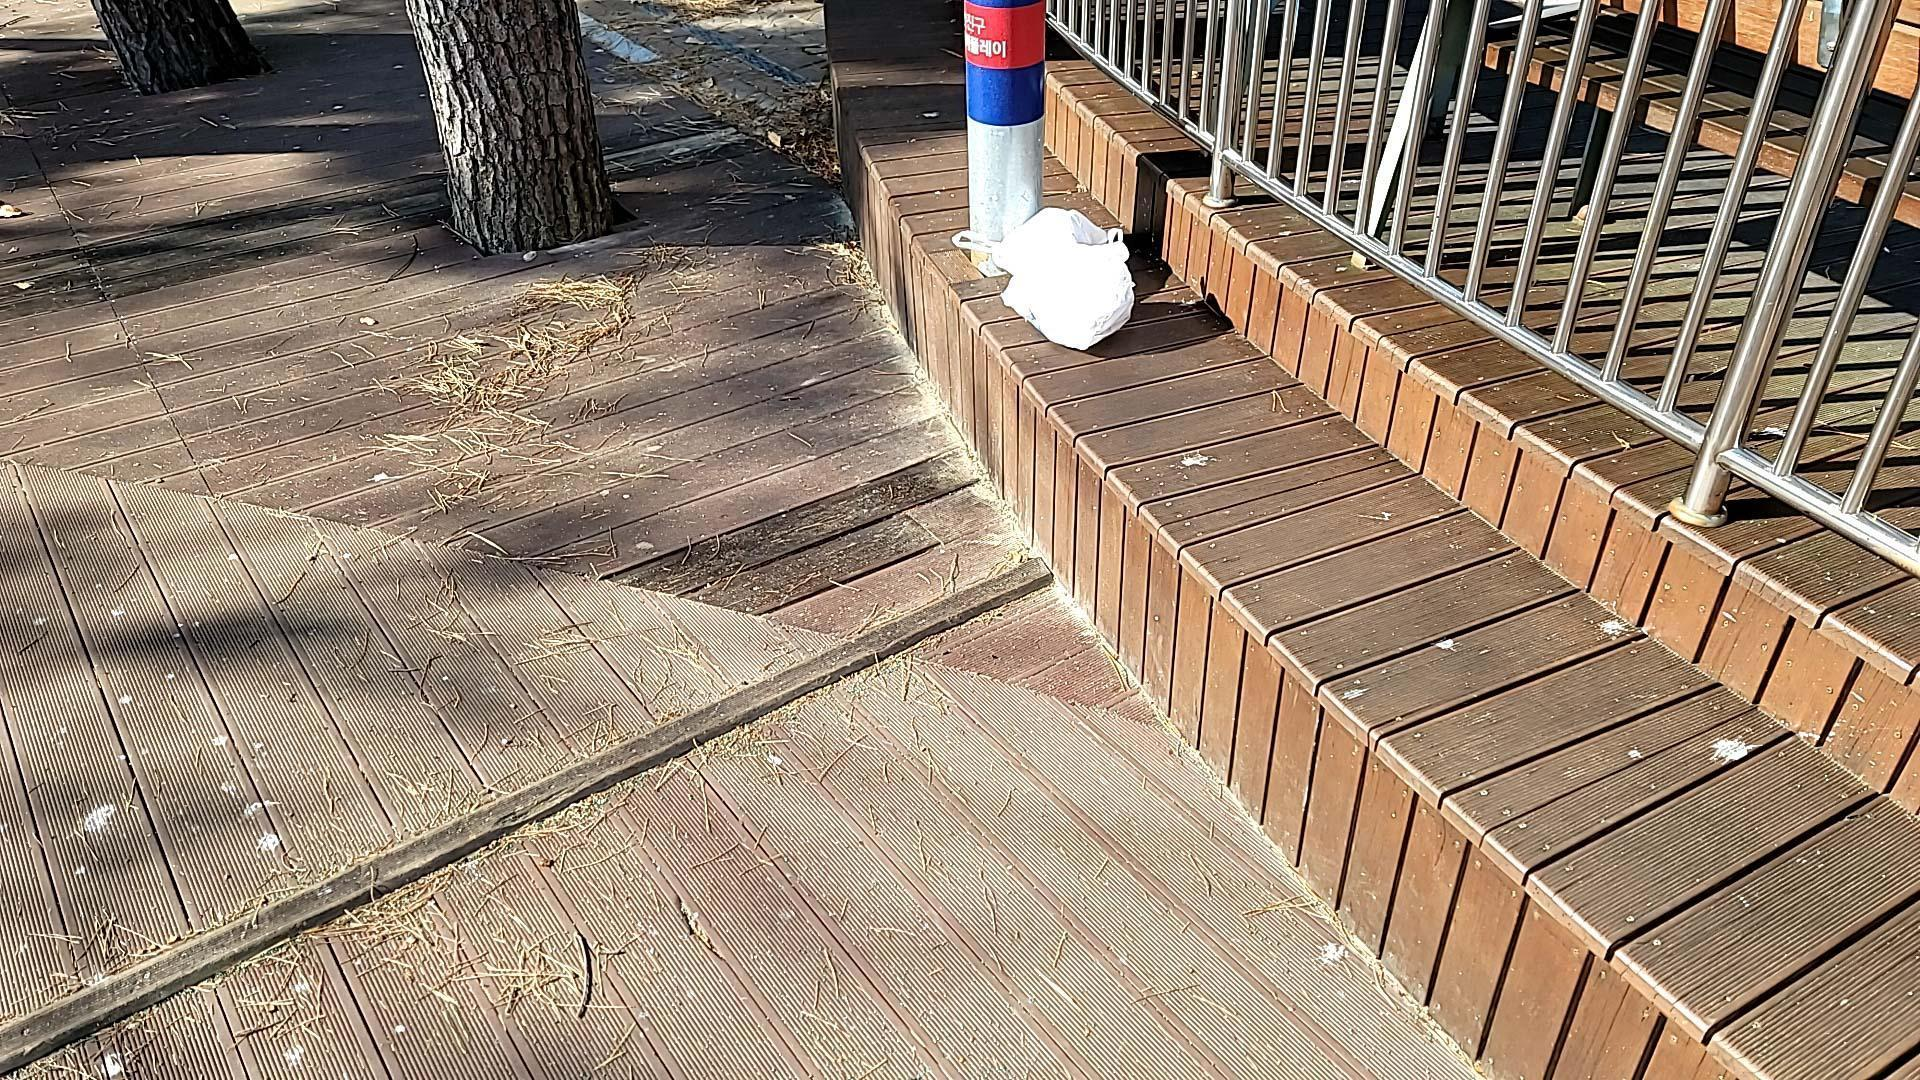white_bag: (948, 196, 1153, 356)
